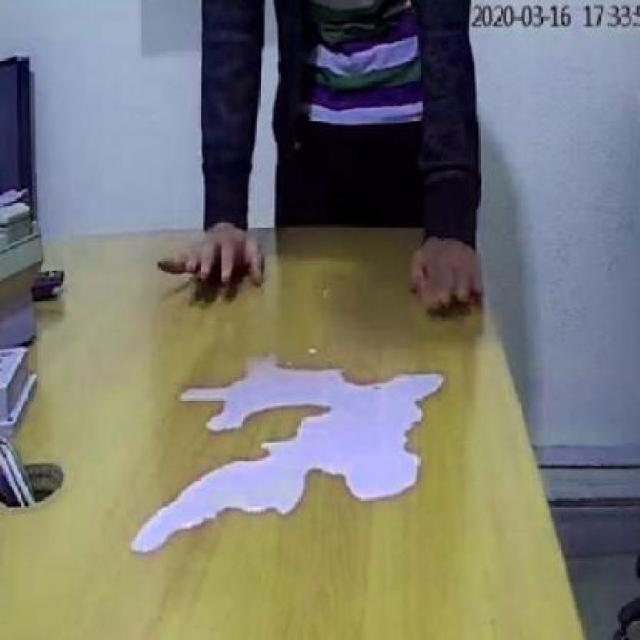spillage: (130, 357, 446, 553)
